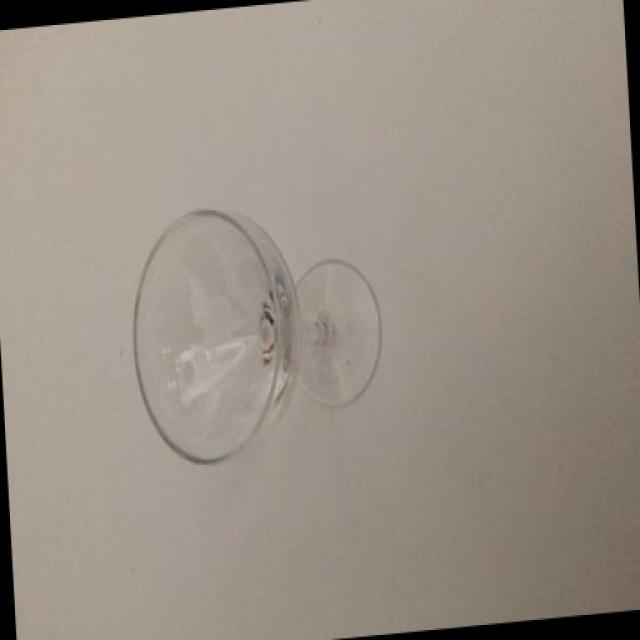vidrio: (123, 166, 507, 506)
